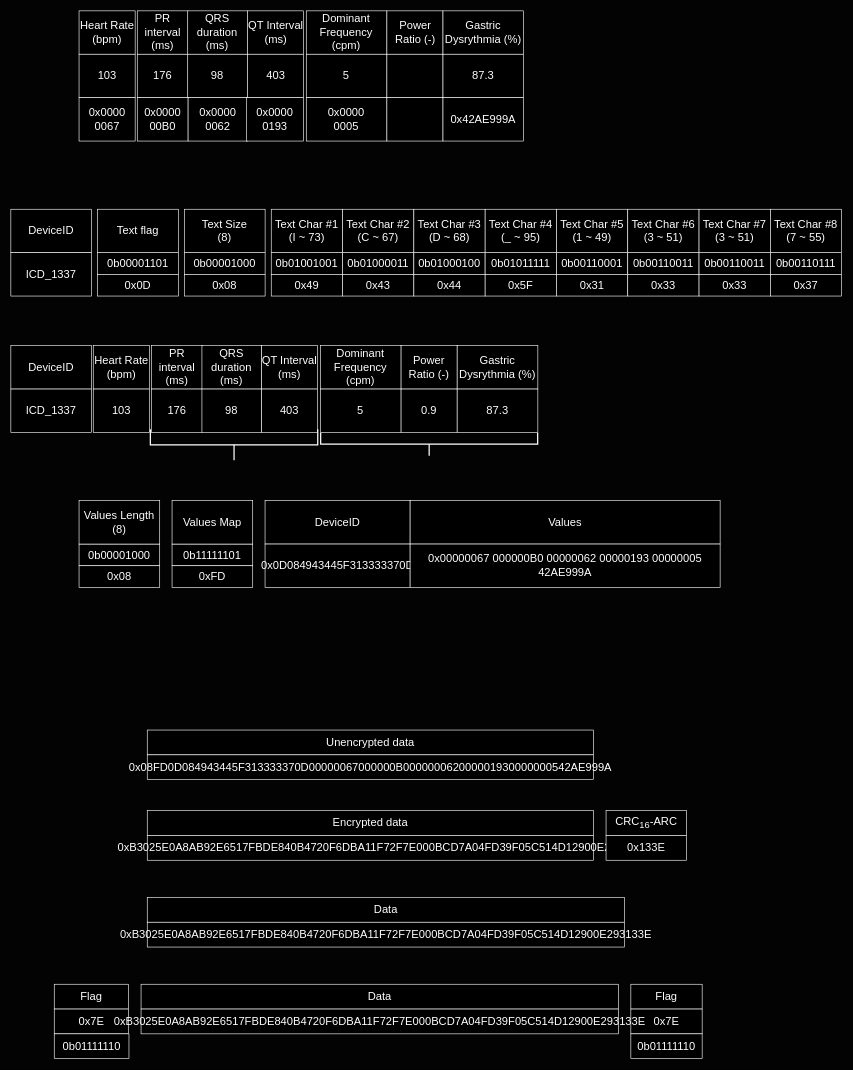
This 853x1070 diagram has some shape labels left out. The centre of each missing label's shape, as x and y in pixels:
ECG: the point at 233,444
EGG: the point at 429,444
